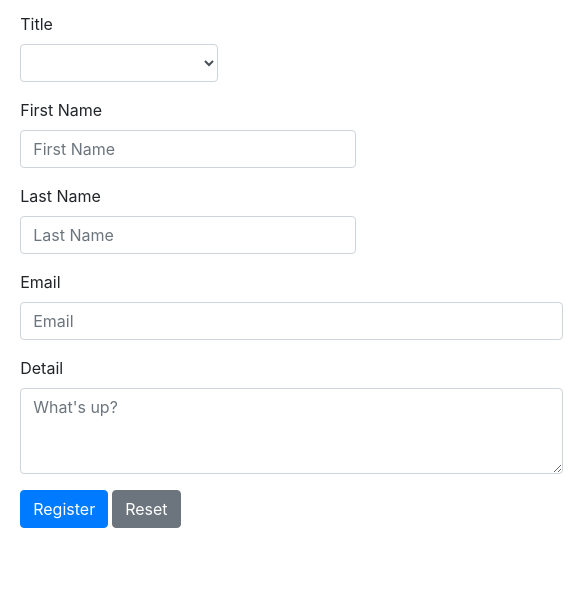
when Contact Form  component is rendered › if Title is selected and First Name is filled, then LastName, Email, Detail text is required
Check: the field with placeholder "First Name" is shown, box [20, 130, 356, 168]
Select "Mr" in the dropdown with placeholder "Title" at (119, 63), box [20, 44, 218, 82]
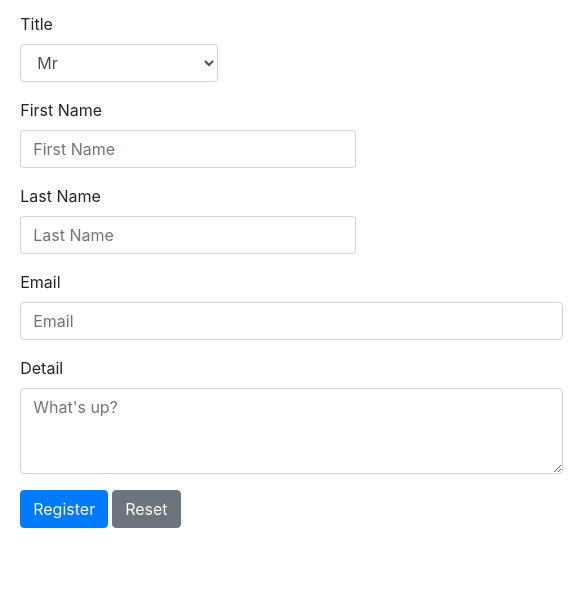
Type "some first text" into the field with placeholder "First Name" at (188, 149), box [20, 130, 356, 168]
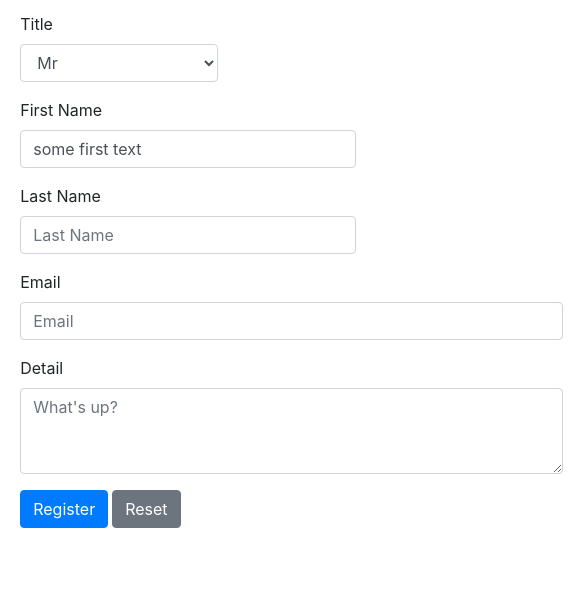
Click the button "Register" at (64, 509), box [20, 490, 108, 528]
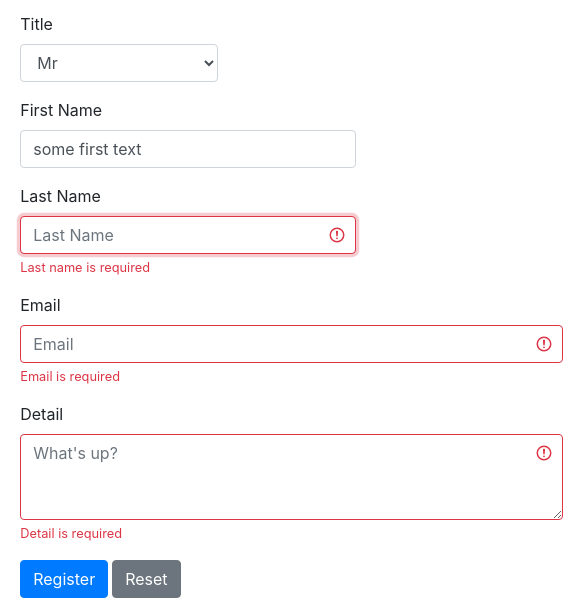
Check: the text "Last name is required" is shown, box [20, 260, 150, 275]
Check: the text "Email is required" is shown, box [20, 369, 120, 384]
Check: the text "Detail is required" is shown, box [20, 526, 122, 541]
